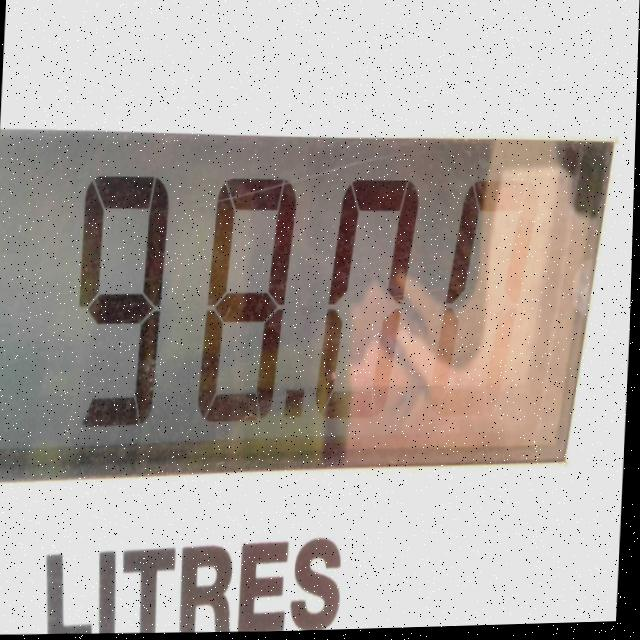.: (280, 387, 314, 436)
0: (431, 188, 545, 438), (324, 174, 418, 430)
8: (193, 181, 288, 449)
9: (75, 174, 174, 433)
